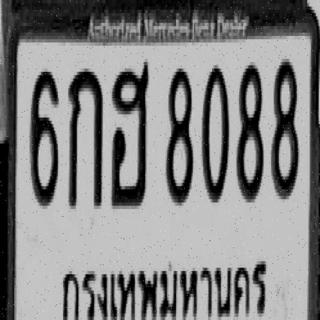A01: (67, 65, 102, 209)
A44: (110, 61, 149, 208)
N00: (200, 62, 228, 202)
N06: (30, 69, 58, 206)
N08: (165, 64, 193, 204), (271, 59, 298, 199), (236, 62, 263, 199)
P04: (57, 248, 270, 320)
